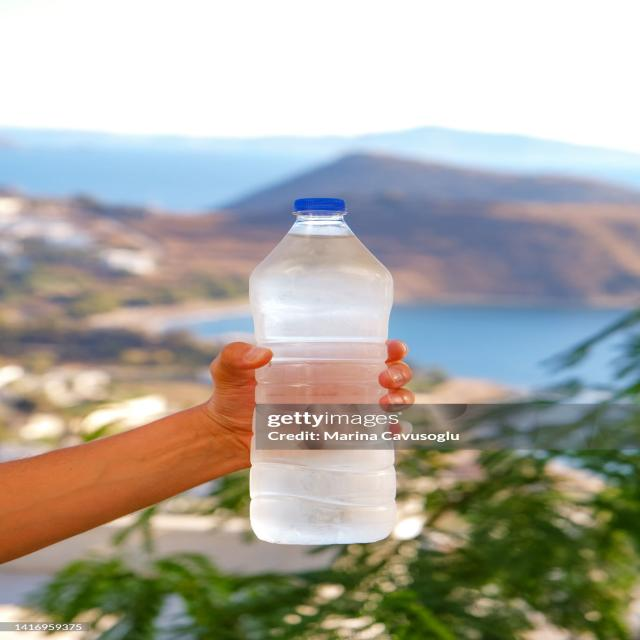bottle: (244, 187, 399, 547)
